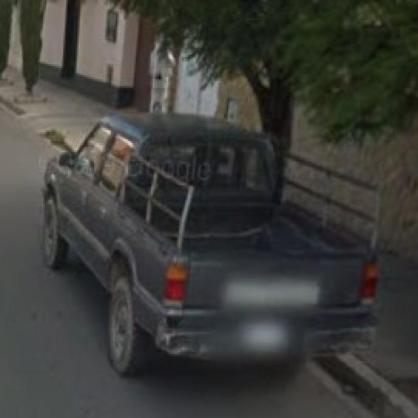car: (40, 111, 377, 376)
